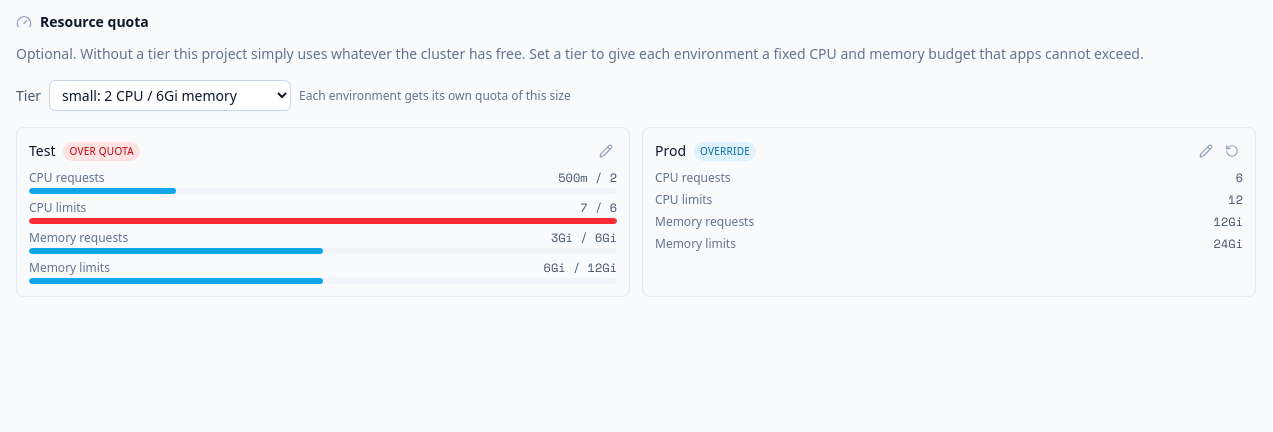
Scenario: ProjectQuota › surfaces below-usage warnings from a 409 and retries with force
Select "medium: 4 CPU / 12Gi memory" in the dropdown at (170, 96), box x1=49 y1=80 x2=291 y2=111
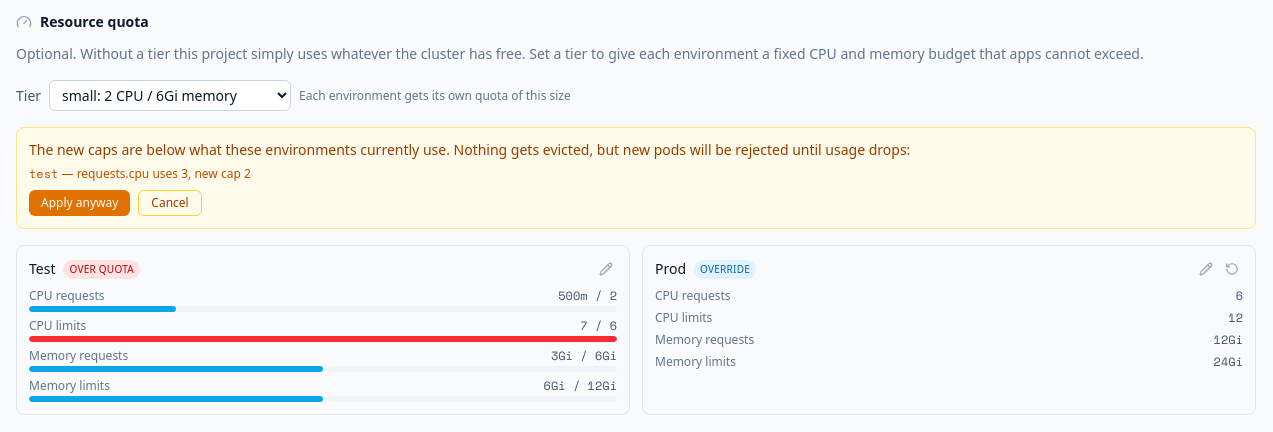
Result: the text "requests.cpu uses 3, new cap 2" is shown at x1=58 y1=165 x2=251 y2=182
Result: the button "Apply anyway" is shown
Click the button "Apply anyway" at (80, 203), box x1=29 y1=190 x2=130 y2=216
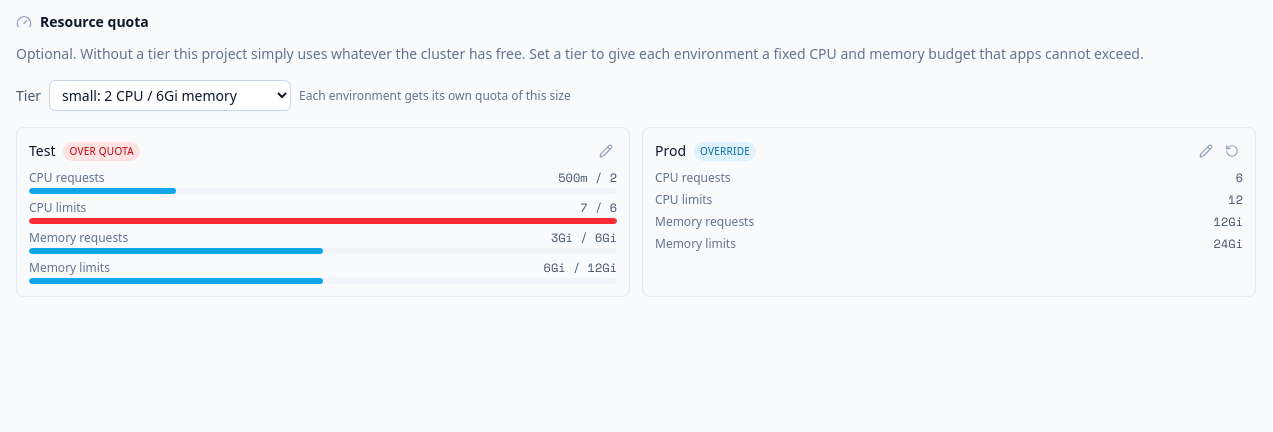
Result: the text "Apply anyway" is gone
